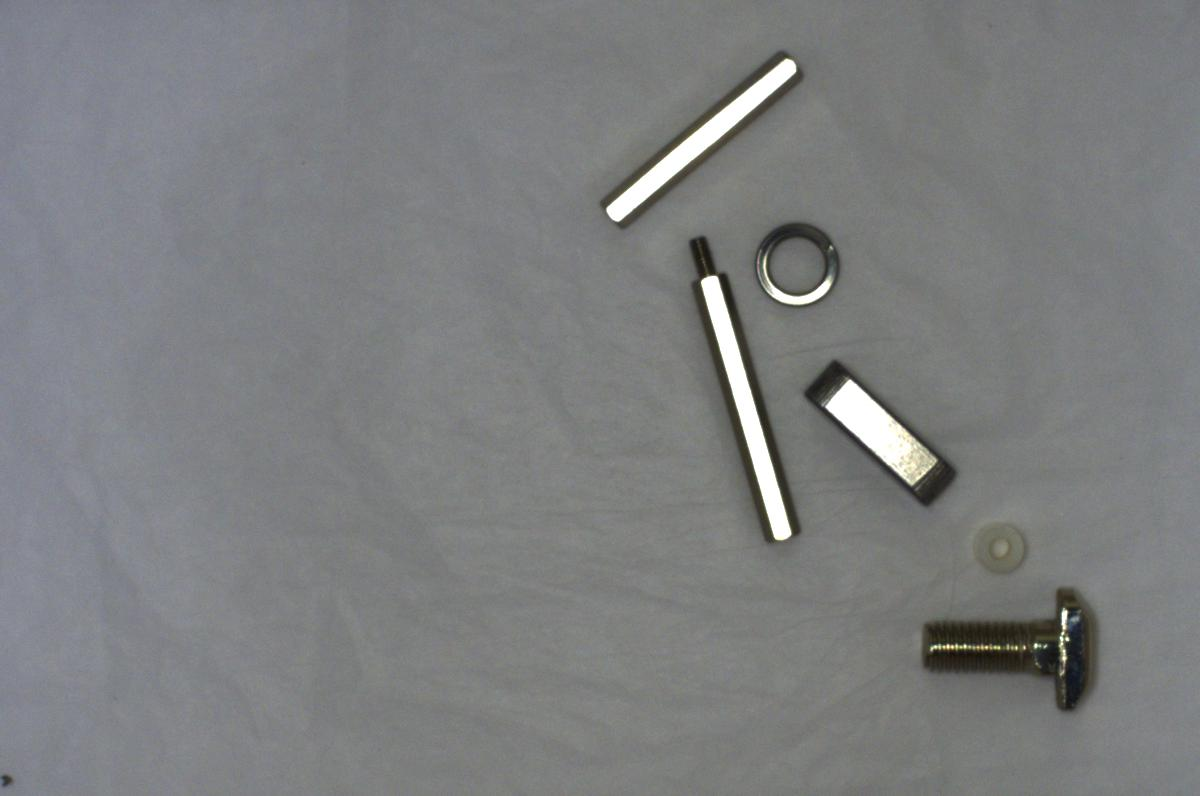Double hexagonal column: (583, 44, 806, 231)
Hexagonal steel column: (685, 226, 800, 551)
Keybar: (802, 355, 965, 512)
Plastic cushion pillar: (969, 515, 1030, 582)
Spring washer: (744, 214, 855, 315)
T-shaped screw: (907, 591, 1108, 726)
